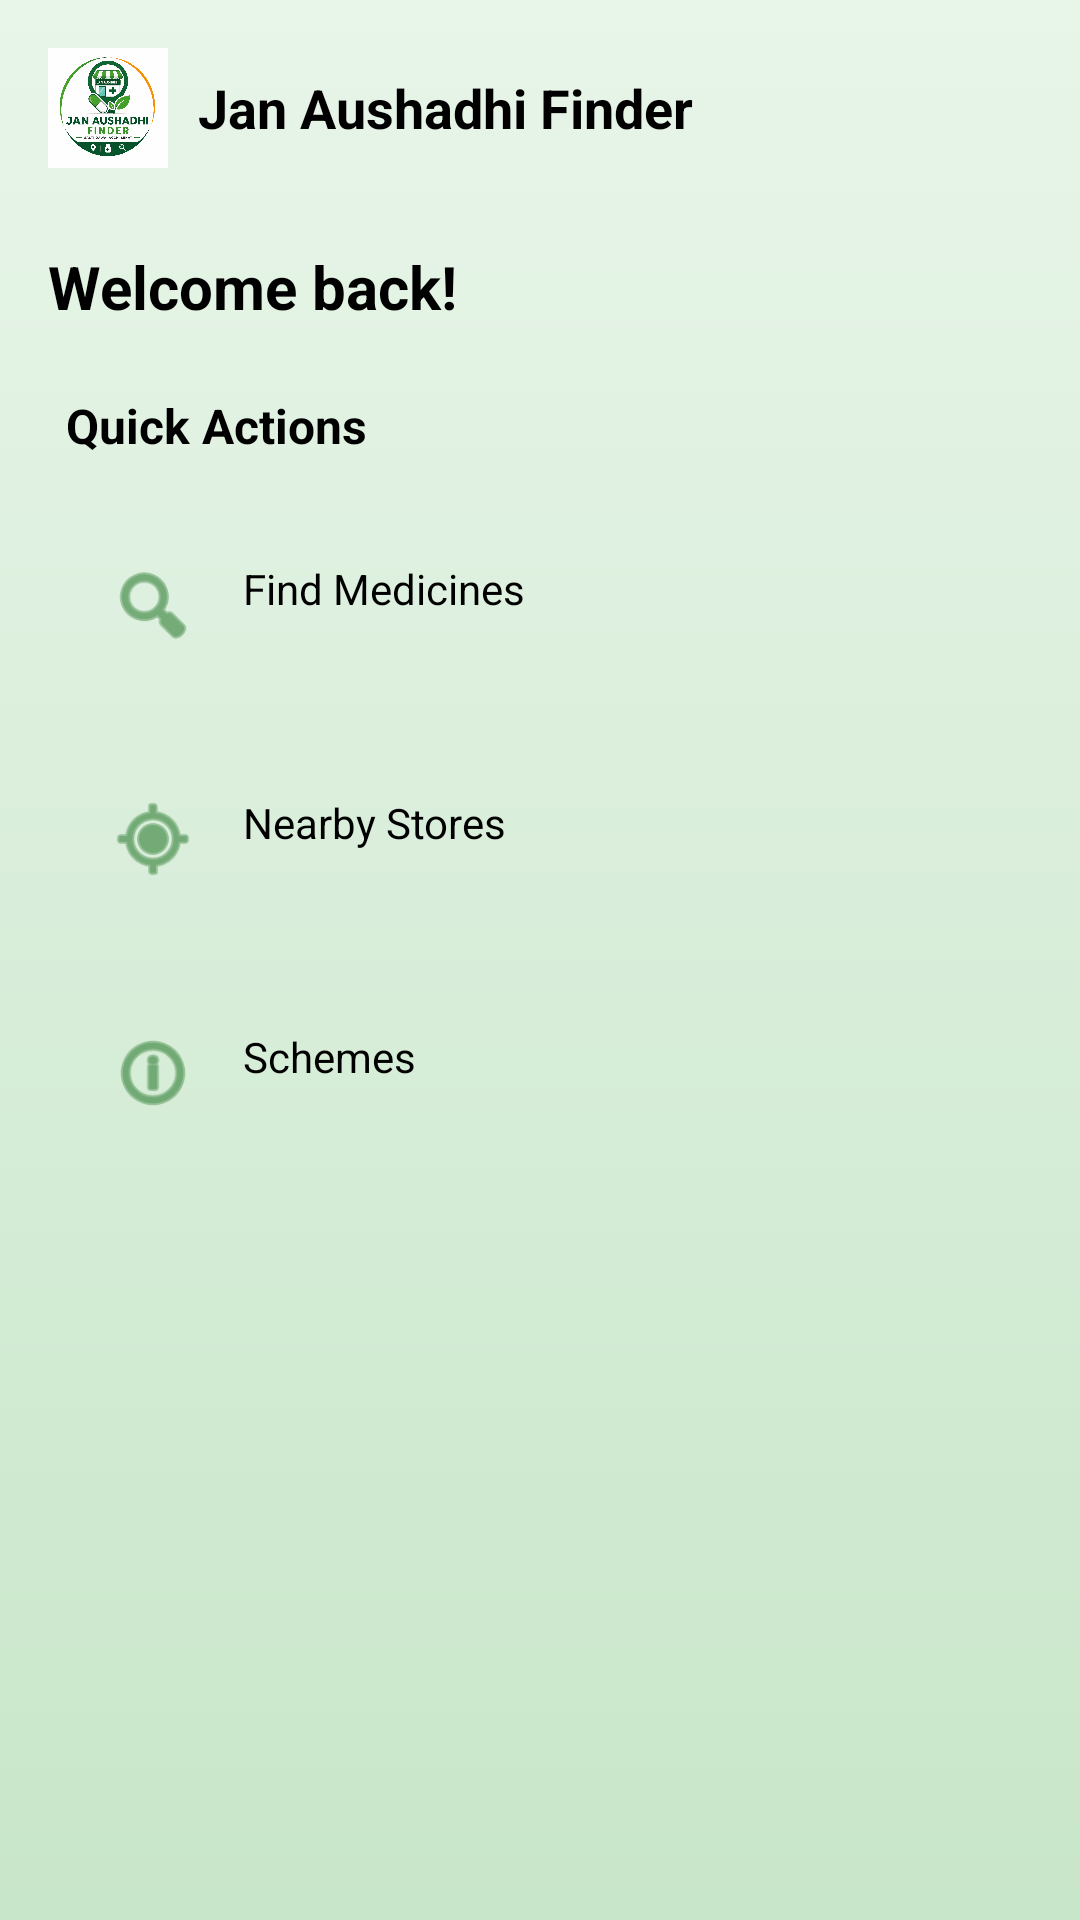

Icons on this 1080x1920 Android screen, each with the point to tap as point (x, y):
info: point (153, 1073)
location: point (153, 839)
search: point (153, 605)
